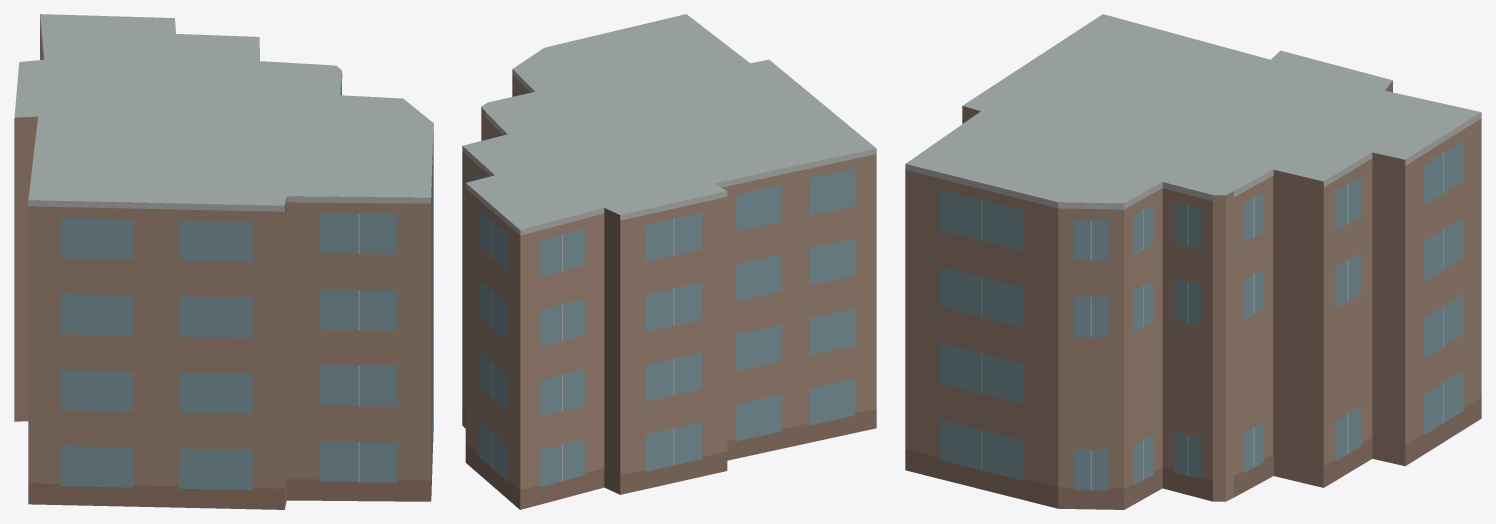
File: survey-upis-32893306.glb
The picture shows the model from 3 angles, left to right: view 1: azimuth 30°, elevation 25°; view 2: azimuth 150°, elevation 25°; view 3: azimuth 270°, elevation 25°; orthographic projection. The views are drawn at different scales.
Visible parts, largest first — view 1: survey-upis-32893306.tmp; view 2: survey-upis-32893306.tmp; view 3: survey-upis-32893306.tmp.
Part boxes in pixels (<box>): survey-upis-32893306.tmp: <box>14,14,433,509</box>; survey-upis-32893306.tmp: <box>462,14,876,509</box>; survey-upis-32893306.tmp: <box>905,14,1481,509</box>.
Size of the model in its own units: 16.19 by 12.2 by 20.8.
